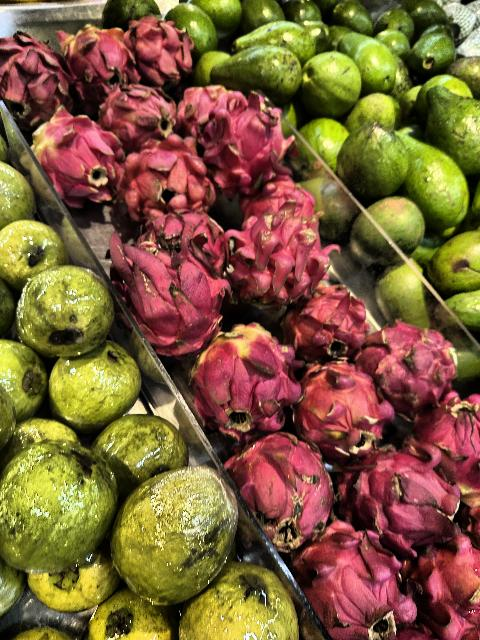buah-naga-belum-matang: (186, 319, 306, 437), (21, 99, 129, 211), (217, 204, 334, 304), (115, 145, 229, 221), (50, 17, 142, 98), (95, 76, 175, 144), (174, 73, 244, 134)
buah-naga-matang: (283, 520, 413, 640), (100, 227, 224, 351), (338, 442, 468, 550), (220, 430, 336, 542), (360, 306, 460, 412), (298, 356, 392, 466), (195, 98, 299, 196), (402, 394, 480, 514), (404, 536, 480, 640), (0, 27, 74, 125), (284, 288, 372, 358), (115, 16, 195, 90)
